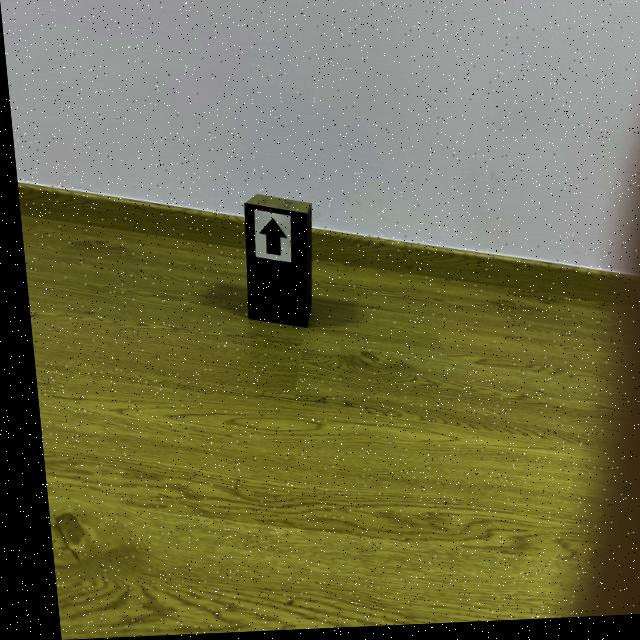UP: (255, 221, 281, 258)
